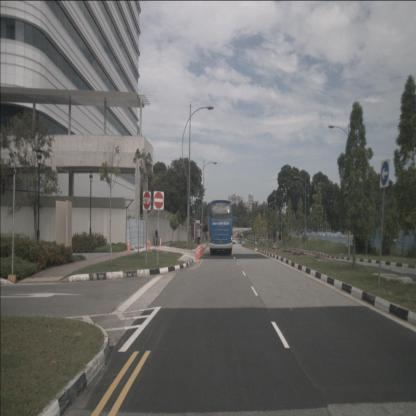human-pedestrian-adult: (197, 224, 201, 247)
movable_object-trafficcone: (195, 245, 199, 261), (127, 237, 130, 252), (197, 244, 200, 258), (197, 245, 200, 257), (147, 238, 150, 250), (159, 238, 162, 247)
vehicle-bus-rigid: (208, 199, 233, 256)
vehicle-car: (238, 238, 242, 245), (232, 238, 235, 245)
vehicle-motorcycle: (154, 229, 160, 246)
